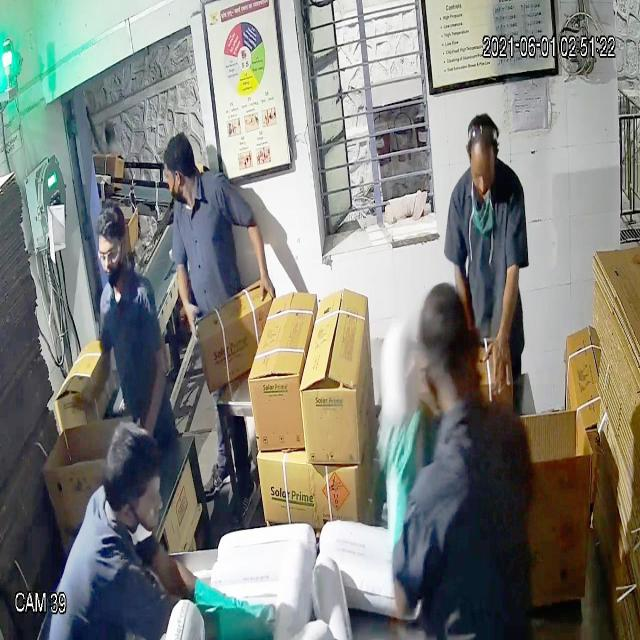glasses: (90, 236, 130, 276)
